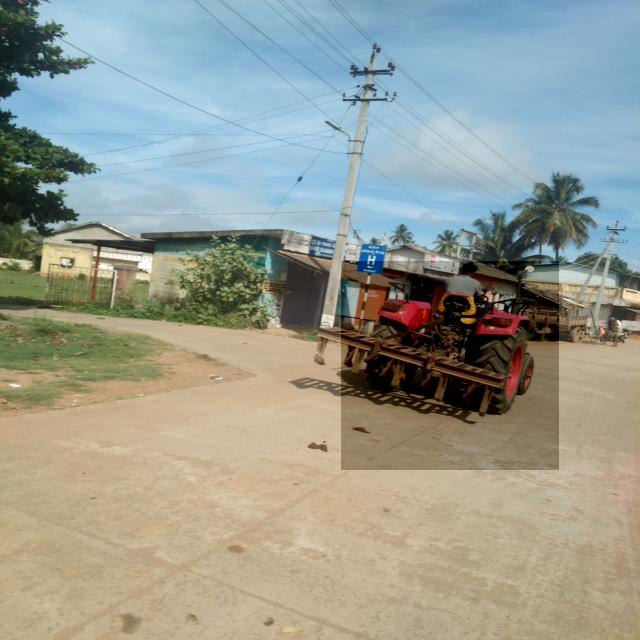Tractot: (341, 261, 559, 470)
